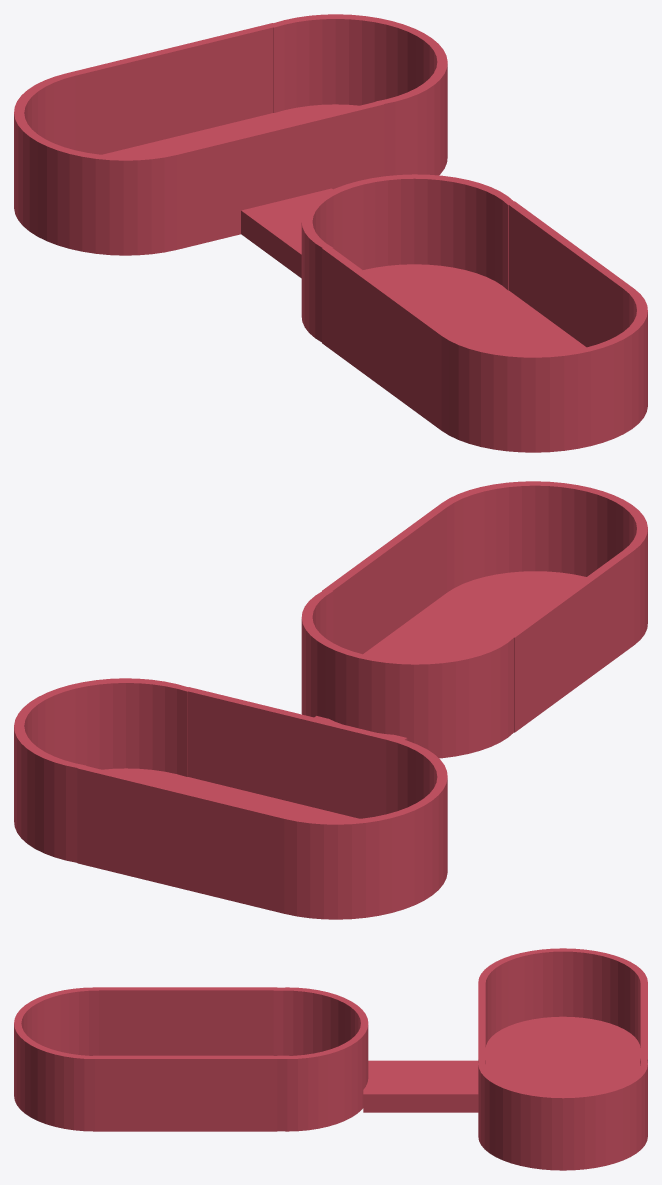
Rendered from ford-e450-switch-cover-double-stacked.glb.
The picture shows the model from 3 angles, top to bottom: view 1: azimuth 30°, elevation 25°; view 2: azimuth 150°, elevation 25°; view 3: azimuth 270°, elevation 25°; orthographic projection. The views are drawn at different scales.
Parts seen in each view (by area): view 1: Mesh_Mesh_head_geo.001_lambert2SG.001; view 2: Mesh_Mesh_head_geo.001_lambert2SG.001; view 3: Mesh_Mesh_head_geo.001_lambert2SG.001.
Part boxes in pixels (x1,y1,x2,y2): Mesh_Mesh_head_geo.001_lambert2SG.001: (14,14,647,452); Mesh_Mesh_head_geo.001_lambert2SG.001: (14,481,647,919); Mesh_Mesh_head_geo.001_lambert2SG.001: (14,948,647,1170).
Size of the model in its own units: 0.0355 by 0.008 by 0.0635.
